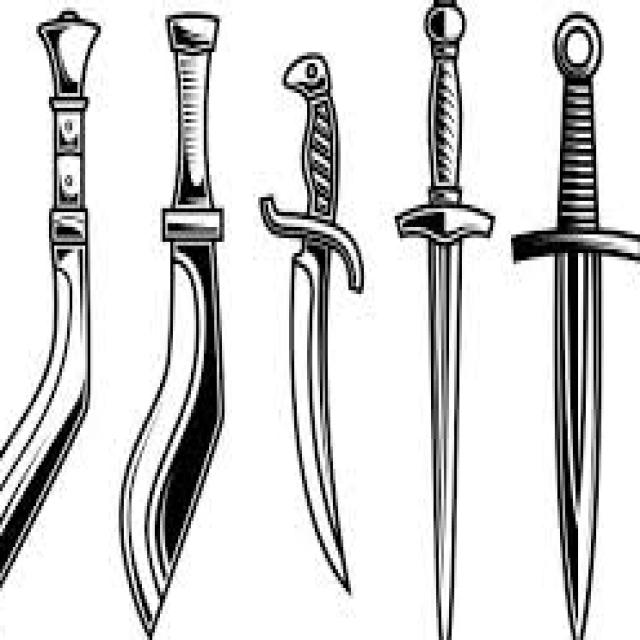Gun: (106, 0, 253, 640), (508, 0, 640, 640), (0, 0, 109, 640), (387, 0, 490, 640), (265, 36, 346, 605)
